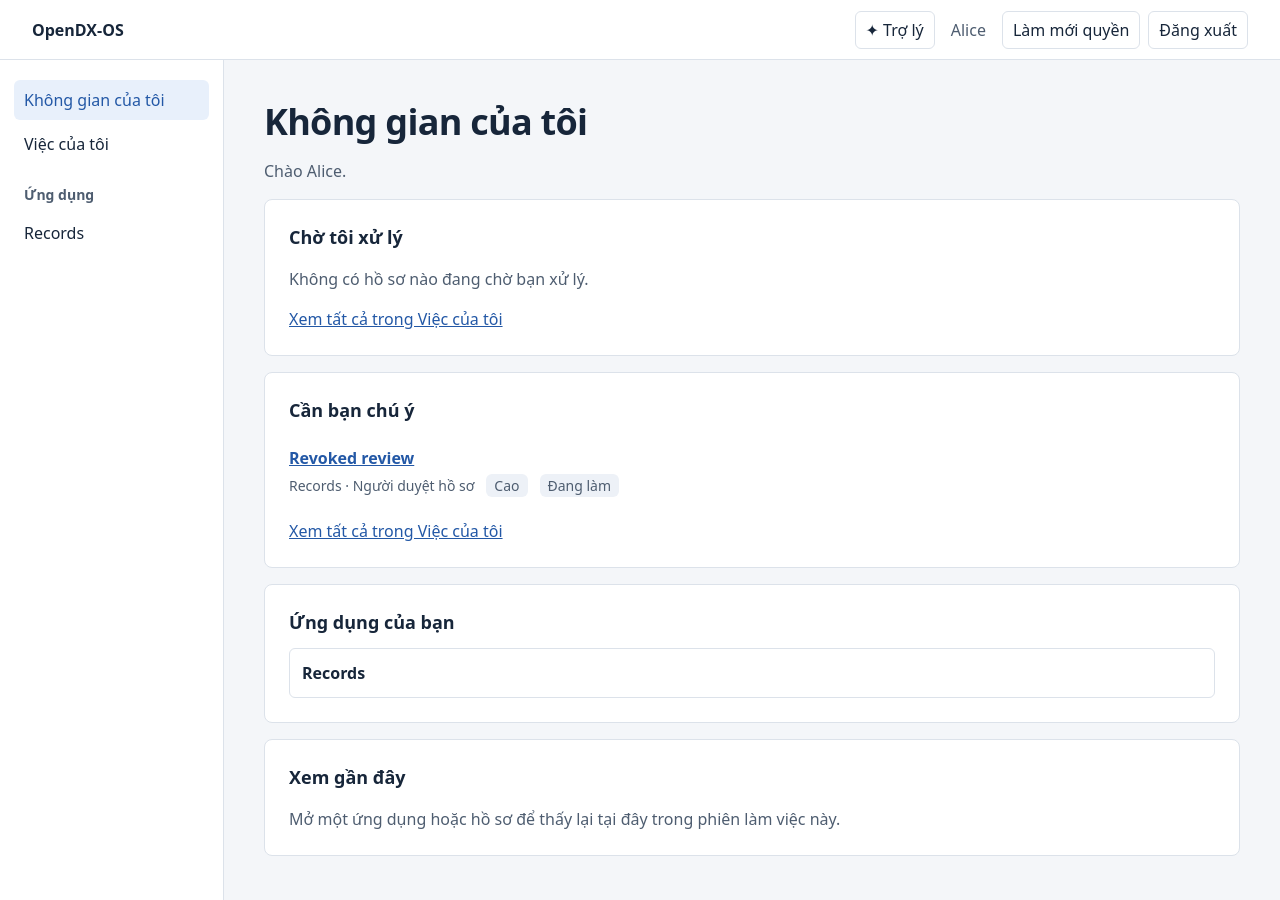
Test: refuses a work target when fresh account grants revoke the originating role
Later steps or results of the test are not shown.
Click the link "Revoked review" at [352, 458], box [289,447,414,469]
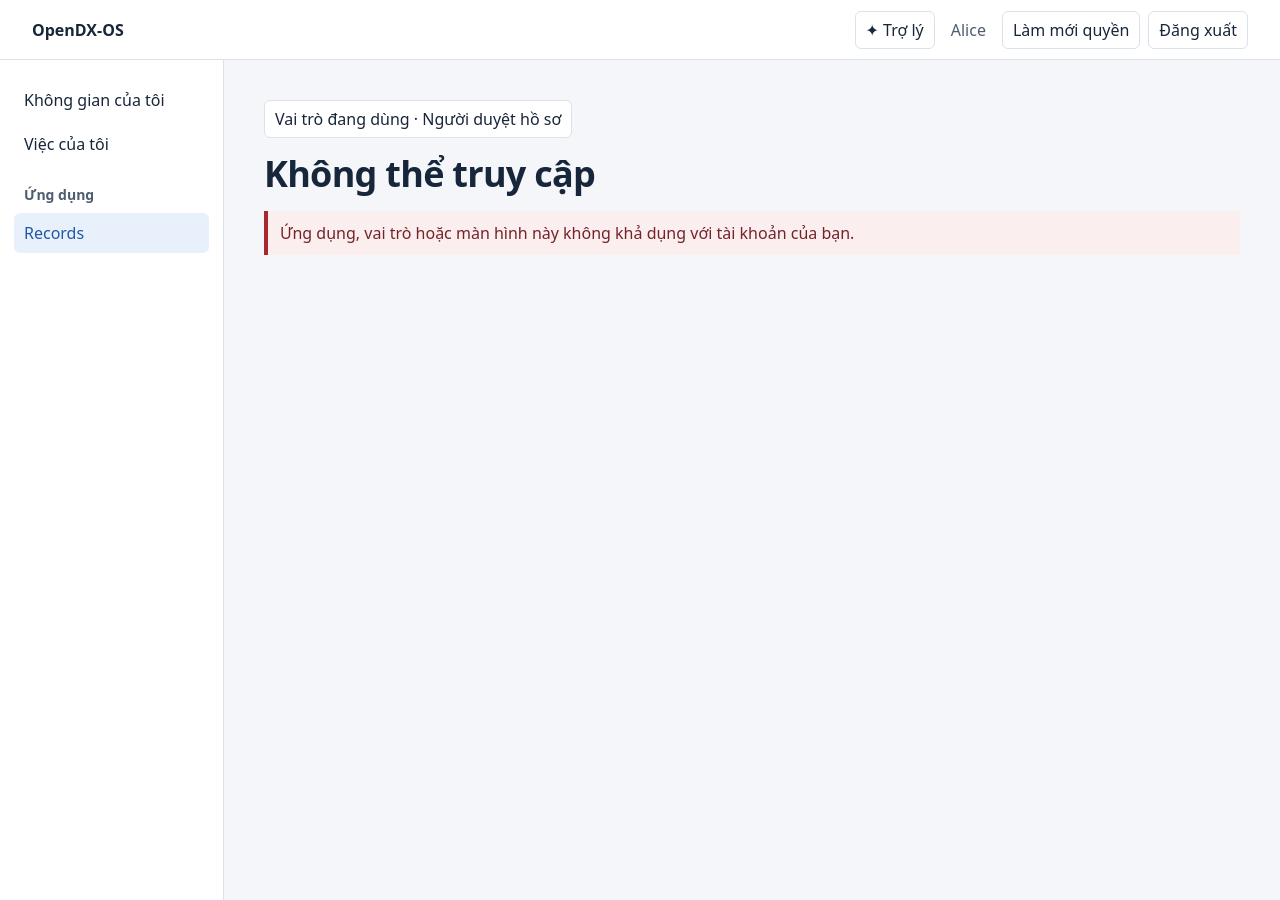
Expected: the heading "Không thể truy cập" is shown, [264,149,595,198]
